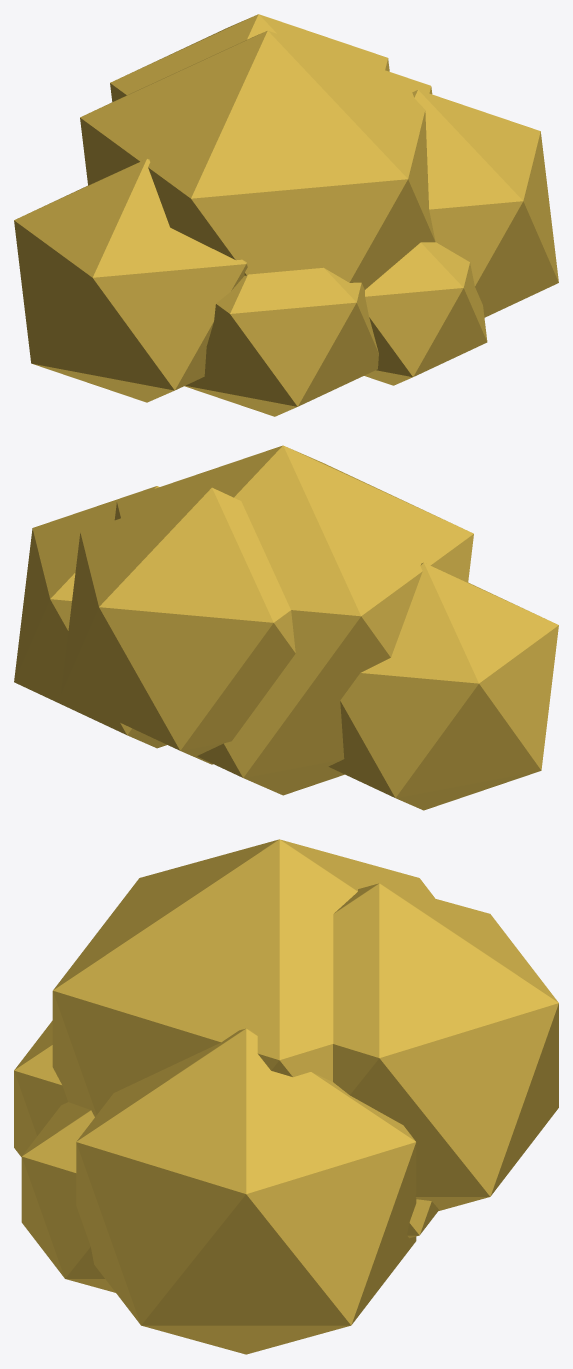
File: bush_yellow.glb
3 renders of one model, top to bottom at view 1: azimuth 30°, elevation 25°; view 2: azimuth 150°, elevation 25°; view 3: azimuth 270°, elevation 25°, orthographic. The views are drawn at different scales.
Parts seen in each view (by area): view 1: bush_yellow; view 2: bush_yellow; view 3: bush_yellow.
Boxes of the visible parts, x1=… form: bush_yellow: x1=14, y1=14, x2=558, y2=416; bush_yellow: x1=14, y1=445, x2=558, y2=810; bush_yellow: x1=14, y1=839, x2=558, y2=1354.
Bounding box in the file's own units: 3.32 × 2.16 × 2.45.
